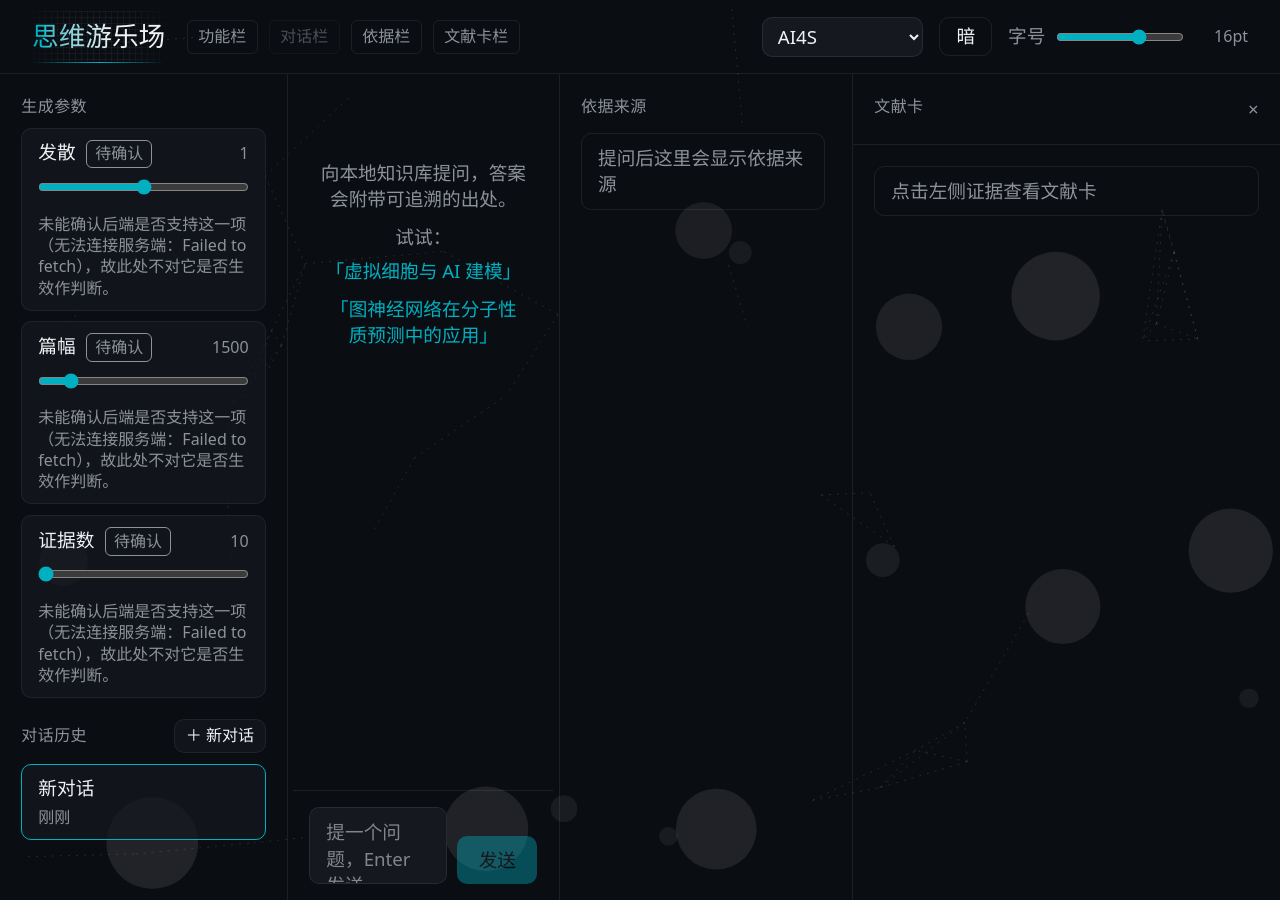
Scenario: App › 布局写入失败时如实告知「本次调整不会被记住」，可关闭（spec 边界 / 宪法 §4.3）
This screenshot has width=1280, height=900.
Expected: the text "不会被记住" is not shown
Press ArrowRight in the element with test id "divider-rail-chat", box [288, 74, 293, 899]
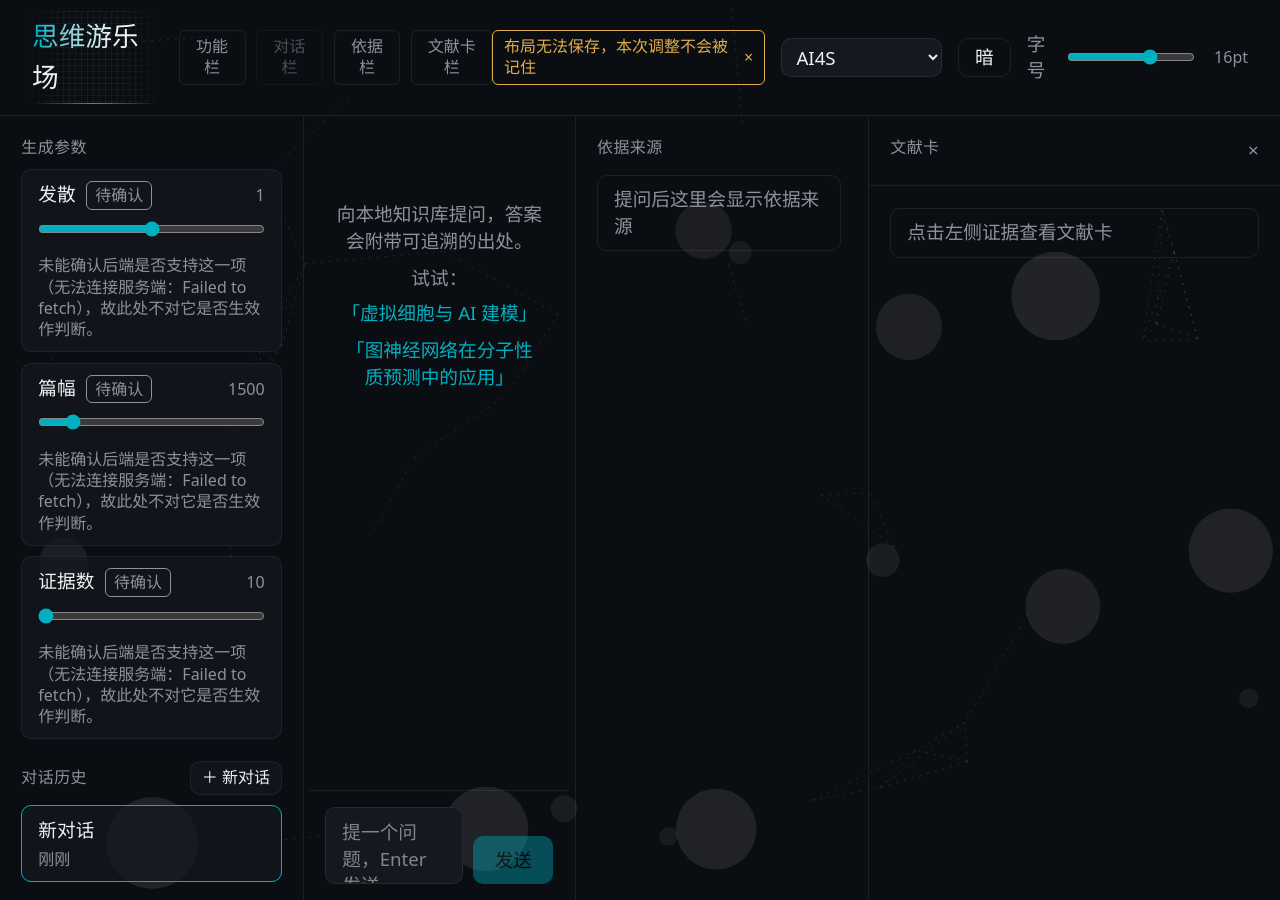
Result: the text "布局无法保存，本次调整不会被记住 ×" is shown at [492, 30, 765, 85]
Click the button named "知道了". click: point(748, 57)
box: [744, 47, 753, 68]
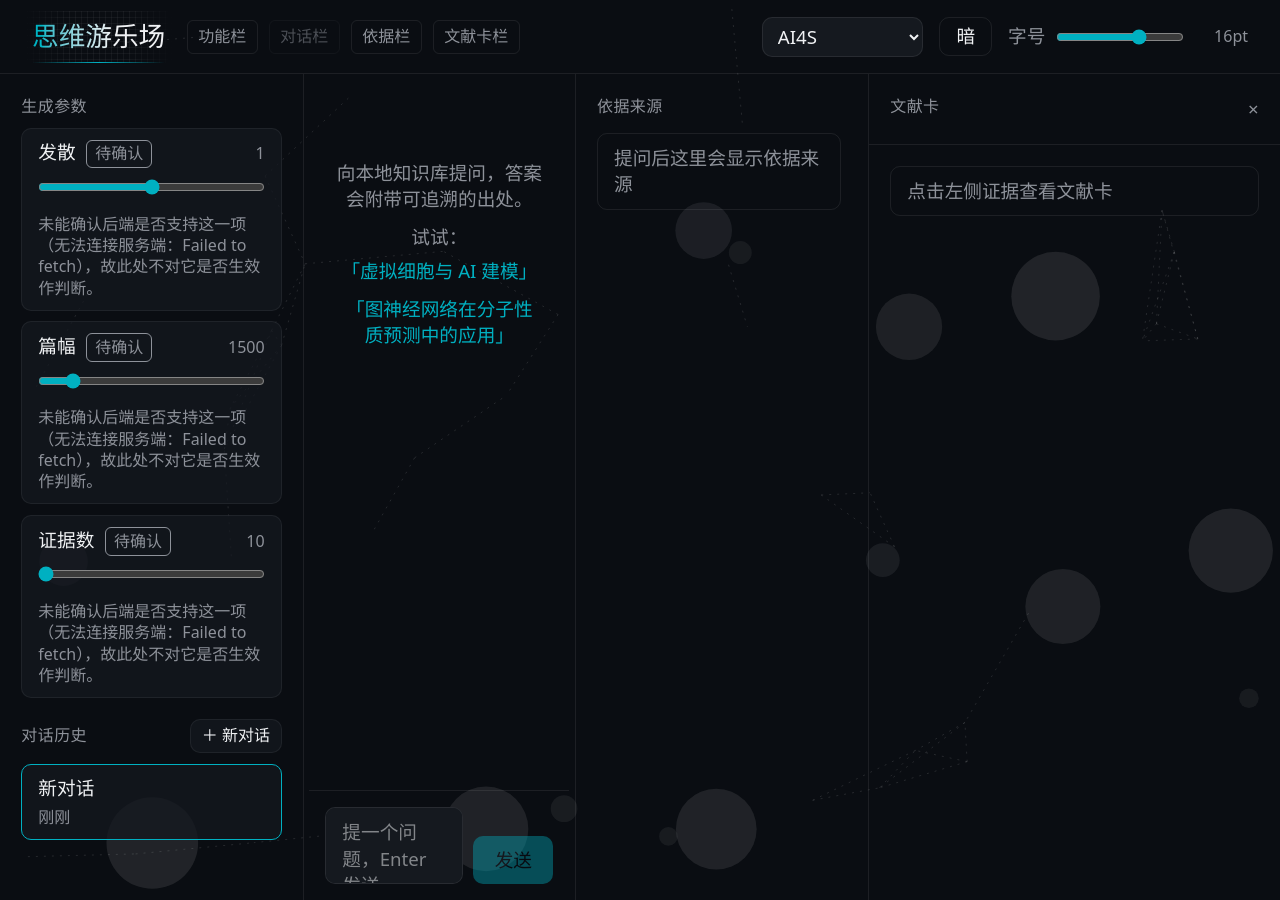
Result: the text "不会被记住" is gone
